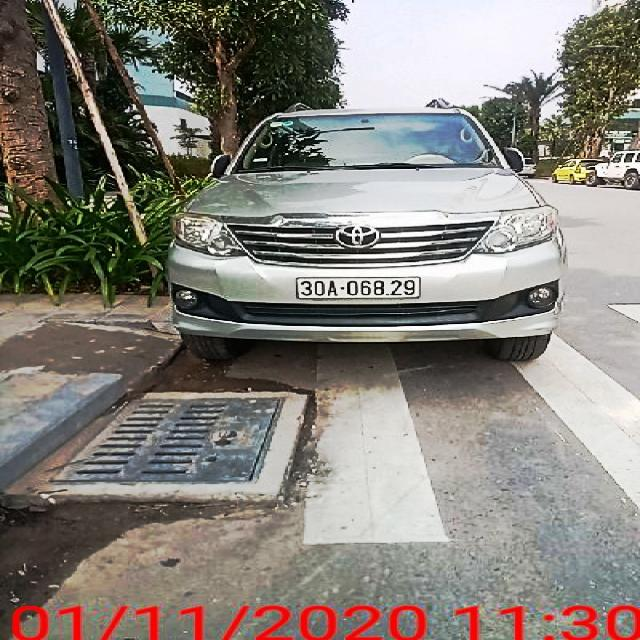license_plate: (298, 277, 421, 301)
